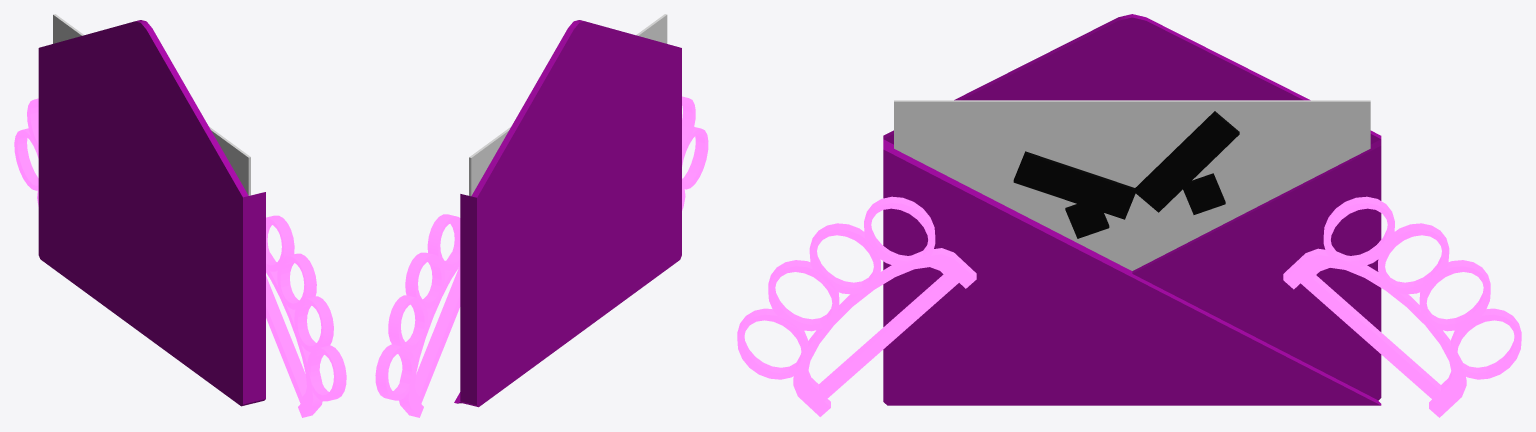
Rendered from Lvl 4 Mail.fbx.
The picture shows the model from 3 angles, left to right: view 1: azimuth 30°, elevation 25°; view 2: azimuth 150°, elevation 25°; view 3: azimuth 270°, elevation 25°; orthographic projection. The views are drawn at different scales.
Visible parts, largest first — view 1: Mail_Troop_; view 2: Mail_Troop_; view 3: Mail_Troop_.
Boxes of the visible parts, x1,y1,x2,y2 form: Mail_Troop_: (14,14,346,417); Mail_Troop_: (375,14,708,417); Mail_Troop_: (737,14,1521,417).
Size of the model in its own units: 0.1379 by 0.9255 by 1.74.
